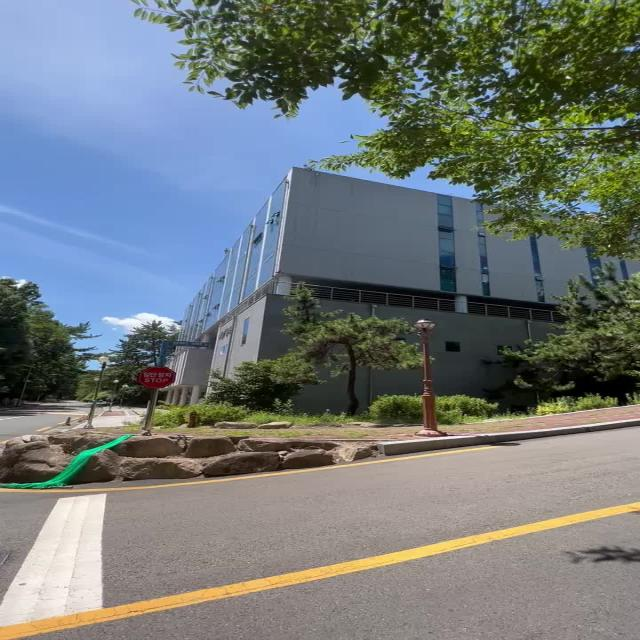building: (165, 197, 528, 347)
